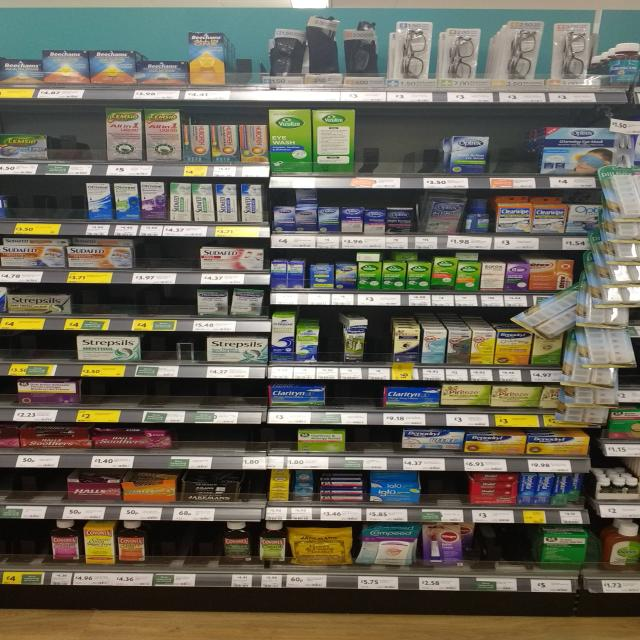void: (359, 105, 442, 175), (85, 378, 263, 410), (74, 284, 190, 318), (0, 178, 84, 220), (182, 425, 294, 456), (50, 100, 100, 162), (495, 106, 536, 178), (0, 331, 74, 363), (145, 331, 205, 366), (143, 236, 194, 272), (327, 381, 381, 412), (350, 426, 398, 457)
